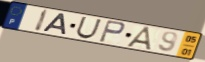9: (157, 31, 180, 53)
A: (125, 26, 154, 52), (41, 12, 68, 36)
I: (33, 8, 50, 33)
P: (98, 19, 127, 44)
U: (75, 16, 103, 40)
